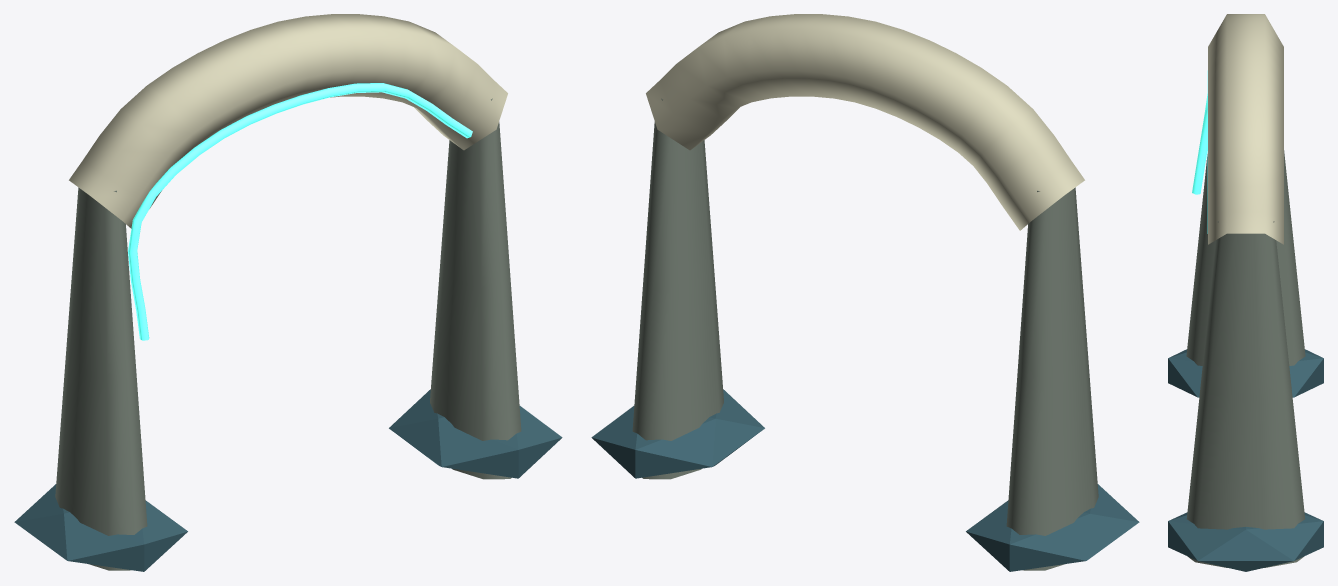
File: ruin-arch.glb
The picture shows the model from 3 angles, left to right: view 1: azimuth 30°, elevation 25°; view 2: azimuth 150°, elevation 25°; view 3: azimuth 270°, elevation 25°; orthographic projection. The views are drawn at different scales.
Visible parts, largest first — view 1: Vesper / ruin-arch; view 2: Vesper / ruin-arch; view 3: Vesper / ruin-arch.
Part boxes in pixels (x1,y1,x2,y2): Vesper / ruin-arch: [14, 14, 562, 571]; Vesper / ruin-arch: [591, 14, 1139, 571]; Vesper / ruin-arch: [1168, 14, 1323, 571].
Size of the model in its own units: 3.97 by 3.63 by 1.19.
